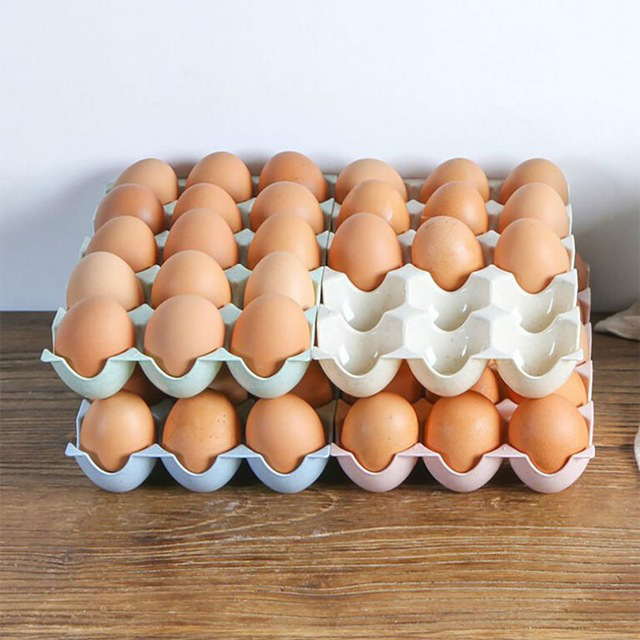egg: (53, 150, 594, 488)
